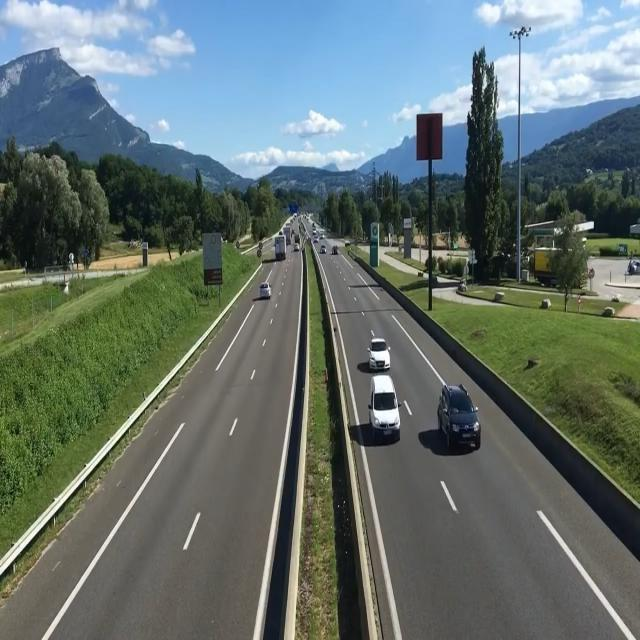Car: (438, 384, 482, 451), (367, 337, 391, 369), (259, 281, 272, 299)
Truck: (274, 234, 287, 262)
Van: (368, 374, 402, 440)
